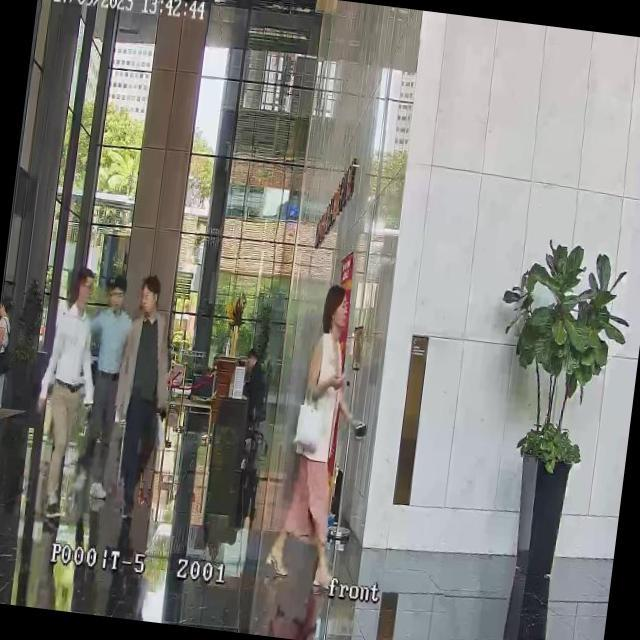person: (262, 279, 367, 595), (23, 261, 109, 521), (100, 272, 182, 526), (68, 272, 138, 506), (238, 347, 269, 412), (0, 293, 14, 433)
